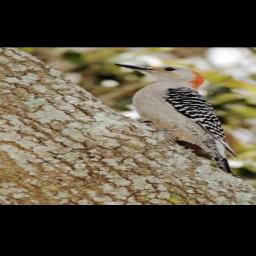Woodpecker: (109, 58, 248, 180)
